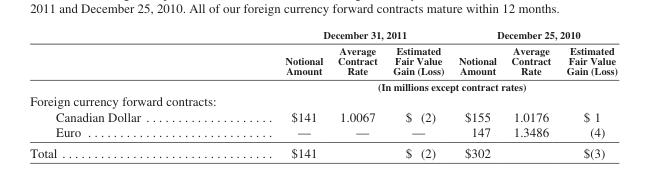table: (29, 28, 617, 159)
table column: (29, 28, 212, 159), (212, 28, 329, 159), (384, 28, 450, 159), (557, 28, 617, 159), (329, 28, 384, 159), (503, 28, 557, 159), (450, 28, 503, 159)
table column header: (29, 28, 617, 92)
table projected row header: (29, 92, 617, 108)
table row: (29, 42, 617, 78), (29, 124, 617, 142), (29, 142, 617, 159), (29, 92, 617, 108), (29, 108, 617, 124), (29, 28, 617, 42), (29, 78, 617, 92)
table spanning cell: (212, 78, 617, 92), (212, 28, 450, 42), (450, 28, 617, 42)
